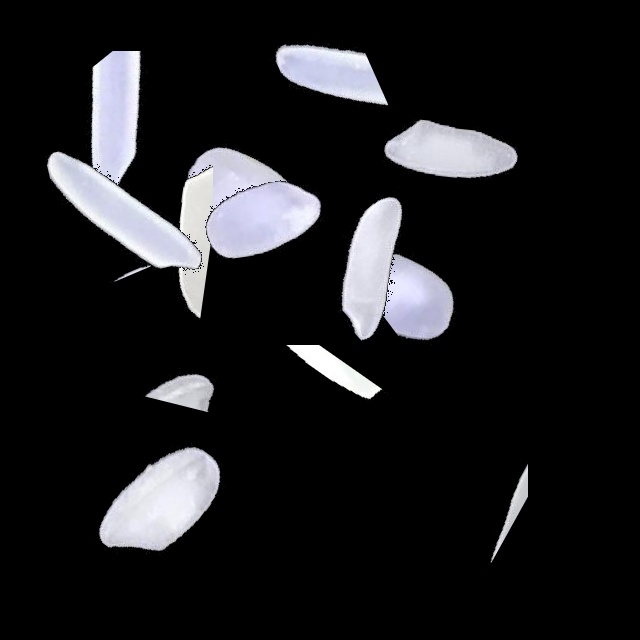Broken: (15, 51, 265, 207), (364, 140, 513, 390), (97, 91, 213, 341), (197, 41, 447, 156), (419, 357, 528, 607), (119, 225, 220, 475), (178, 345, 428, 444), (64, 112, 151, 362), (516, 107, 594, 357)
Full: (115, 67, 365, 317), (325, 23, 575, 273), (137, 92, 387, 342), (252, 141, 502, 391), (0, 84, 250, 334), (38, 377, 288, 627)
